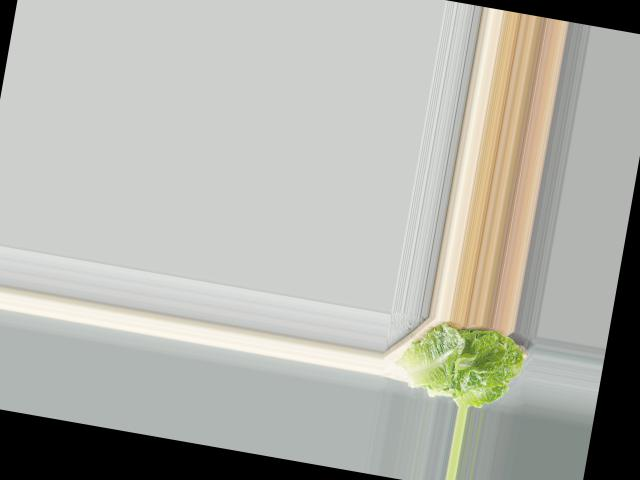lettuce: (395, 312, 532, 415)
